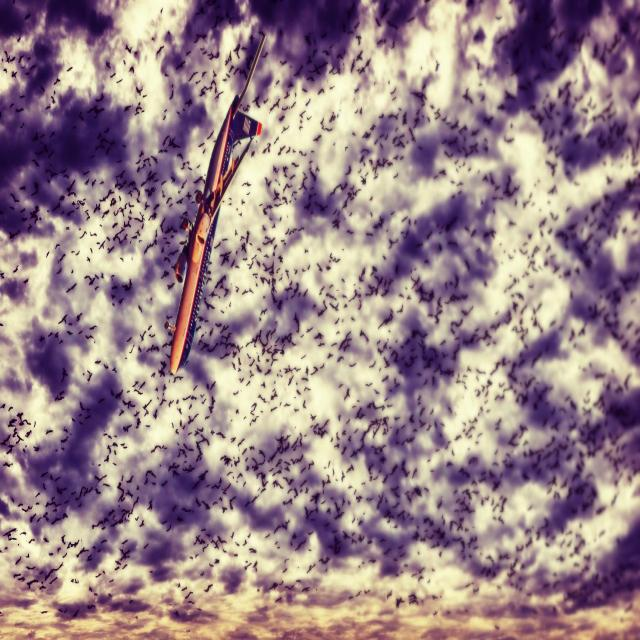airplane: (167, 29, 266, 376)
